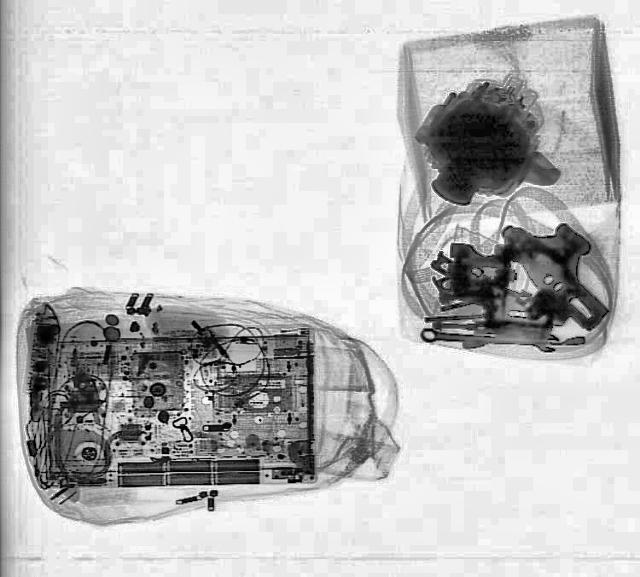Wrench: (418, 324, 562, 354)
